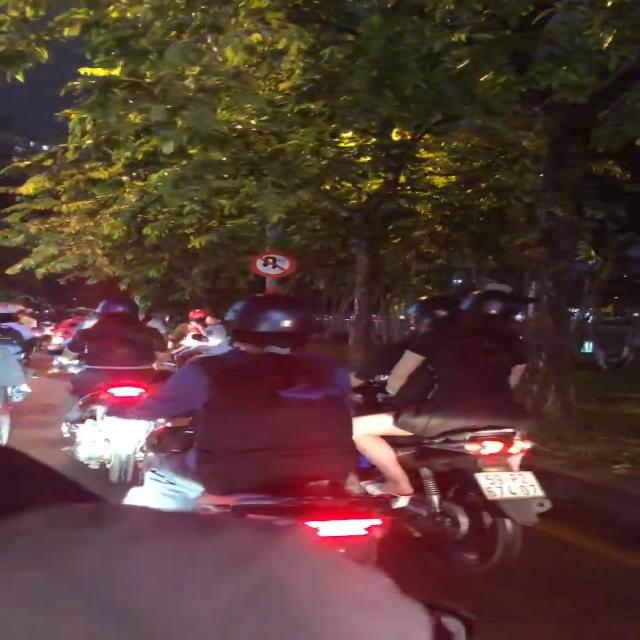Bien bao cam quay dau xe: (250, 251, 297, 278)
